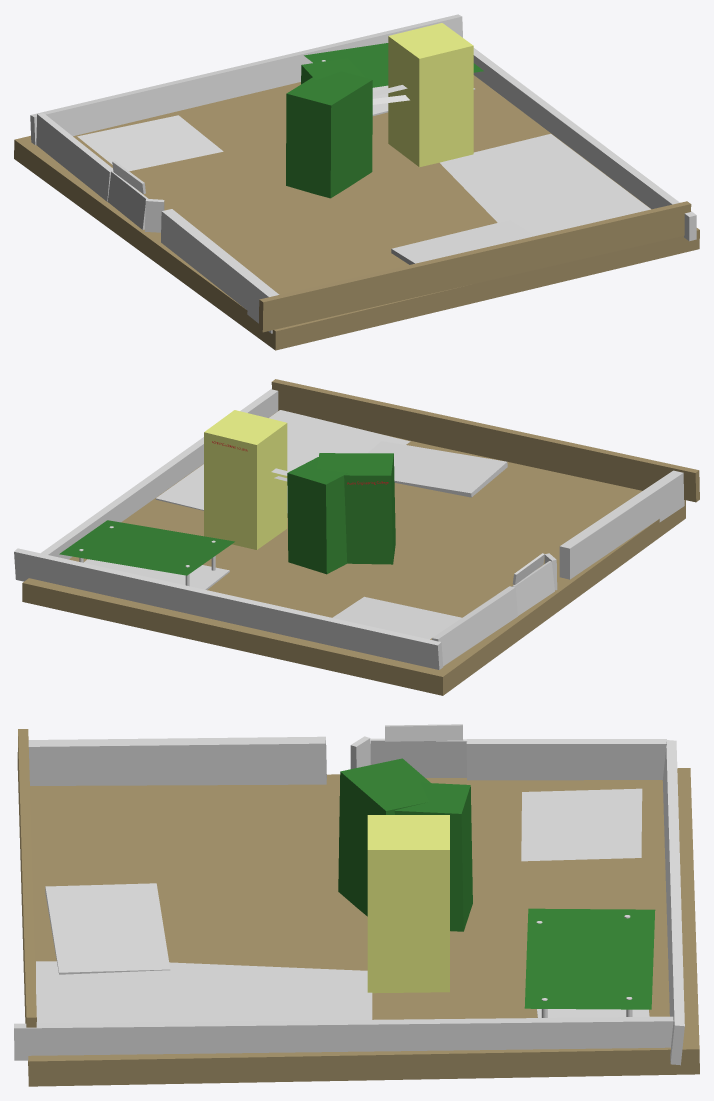
The model's file is world.glb.
3 views of the same model, one above another, from view 1: azimuth 30°, elevation 25°; view 2: azimuth 150°, elevation 25°; view 3: azimuth 270°, elevation 25° (orthographic). The views are drawn at different scales.
Parts seen in each view (by area): view 1: Cube, Cube.014, Cube.003, Cube.001, Cube.002, Cube.012, Cube.013, Plane.002, Cube.009, Cube.005, Cube.011, Grid (+3 smaller); view 2: Cube, Cube.014, Cube.012, Cube.001, Cube.002, Cube.010, Grid, Cube.009, Cube.003, Cube.011, Cube.013, Plane.002 (+3 smaller); view 3: Cube, Cube.013, Cube.003, Cube.001, Cube.009, Grid, Cube.011, Plane.002, Cube.005, Cube.002, Cube.012, Cube.010 (+5 smaller).
Part boxes in pixels (box(x1,y1,x2,y2)): Cube: box(14, 75, 699, 350); Cube.014: box(258, 201, 691, 332); Cube.003: box(440, 134, 650, 235); Cube.001: box(388, 23, 473, 167); Cube.002: box(286, 71, 372, 198); Cube.012: box(30, 14, 462, 145); Cube.013: box(473, 48, 696, 241); Plane.002: box(77, 115, 223, 171); Cube.009: box(161, 209, 279, 333); Cube.005: box(36, 113, 113, 201); Cube.011: box(391, 220, 535, 264); Grid: box(304, 43, 483, 87); Cube: box(22, 411, 685, 695); Cube.014: box(271, 379, 699, 502); Cube.012: box(14, 548, 442, 669); Cube.001: box(204, 410, 287, 549); Cube.002: box(317, 453, 395, 564); Cube.010: box(287, 457, 348, 574); Grid: box(59, 520, 234, 575); Cube.009: box(559, 470, 684, 579); Cube.003: box(155, 410, 410, 512); Cube.011: box(368, 441, 507, 497); Cube.013: box(41, 388, 278, 559); Plane.002: box(332, 596, 461, 639); Cube: box(28, 768, 699, 1086); Cube.013: box(14, 1016, 673, 1060); Cube.003: box(36, 961, 372, 1023); Cube.001: box(367, 815, 449, 993); Cube.009: box(28, 736, 326, 785); Grid: box(524, 908, 655, 1009); Cube.011: box(45, 883, 170, 974); Plane.002: box(521, 788, 642, 861); Cube.005: box(466, 739, 666, 780); Cube.002: box(338, 758, 430, 916); Cube.012: box(662, 740, 684, 1065); Cube.010: box(394, 782, 472, 931).
Bounding box in the file's own units: 31.39 × 9.62 × 31.57.
